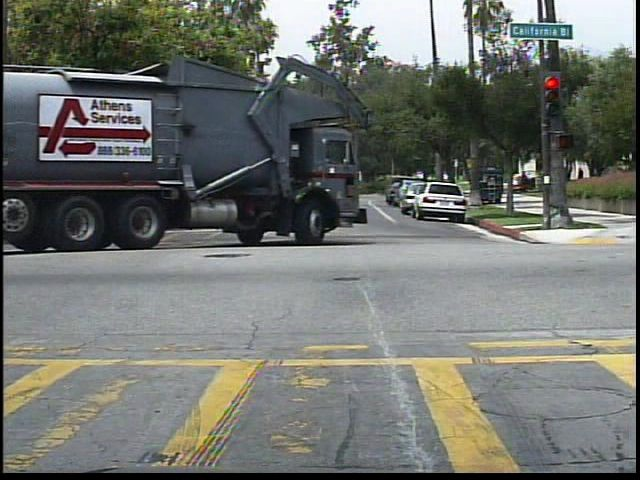person: (573, 164, 591, 194)
